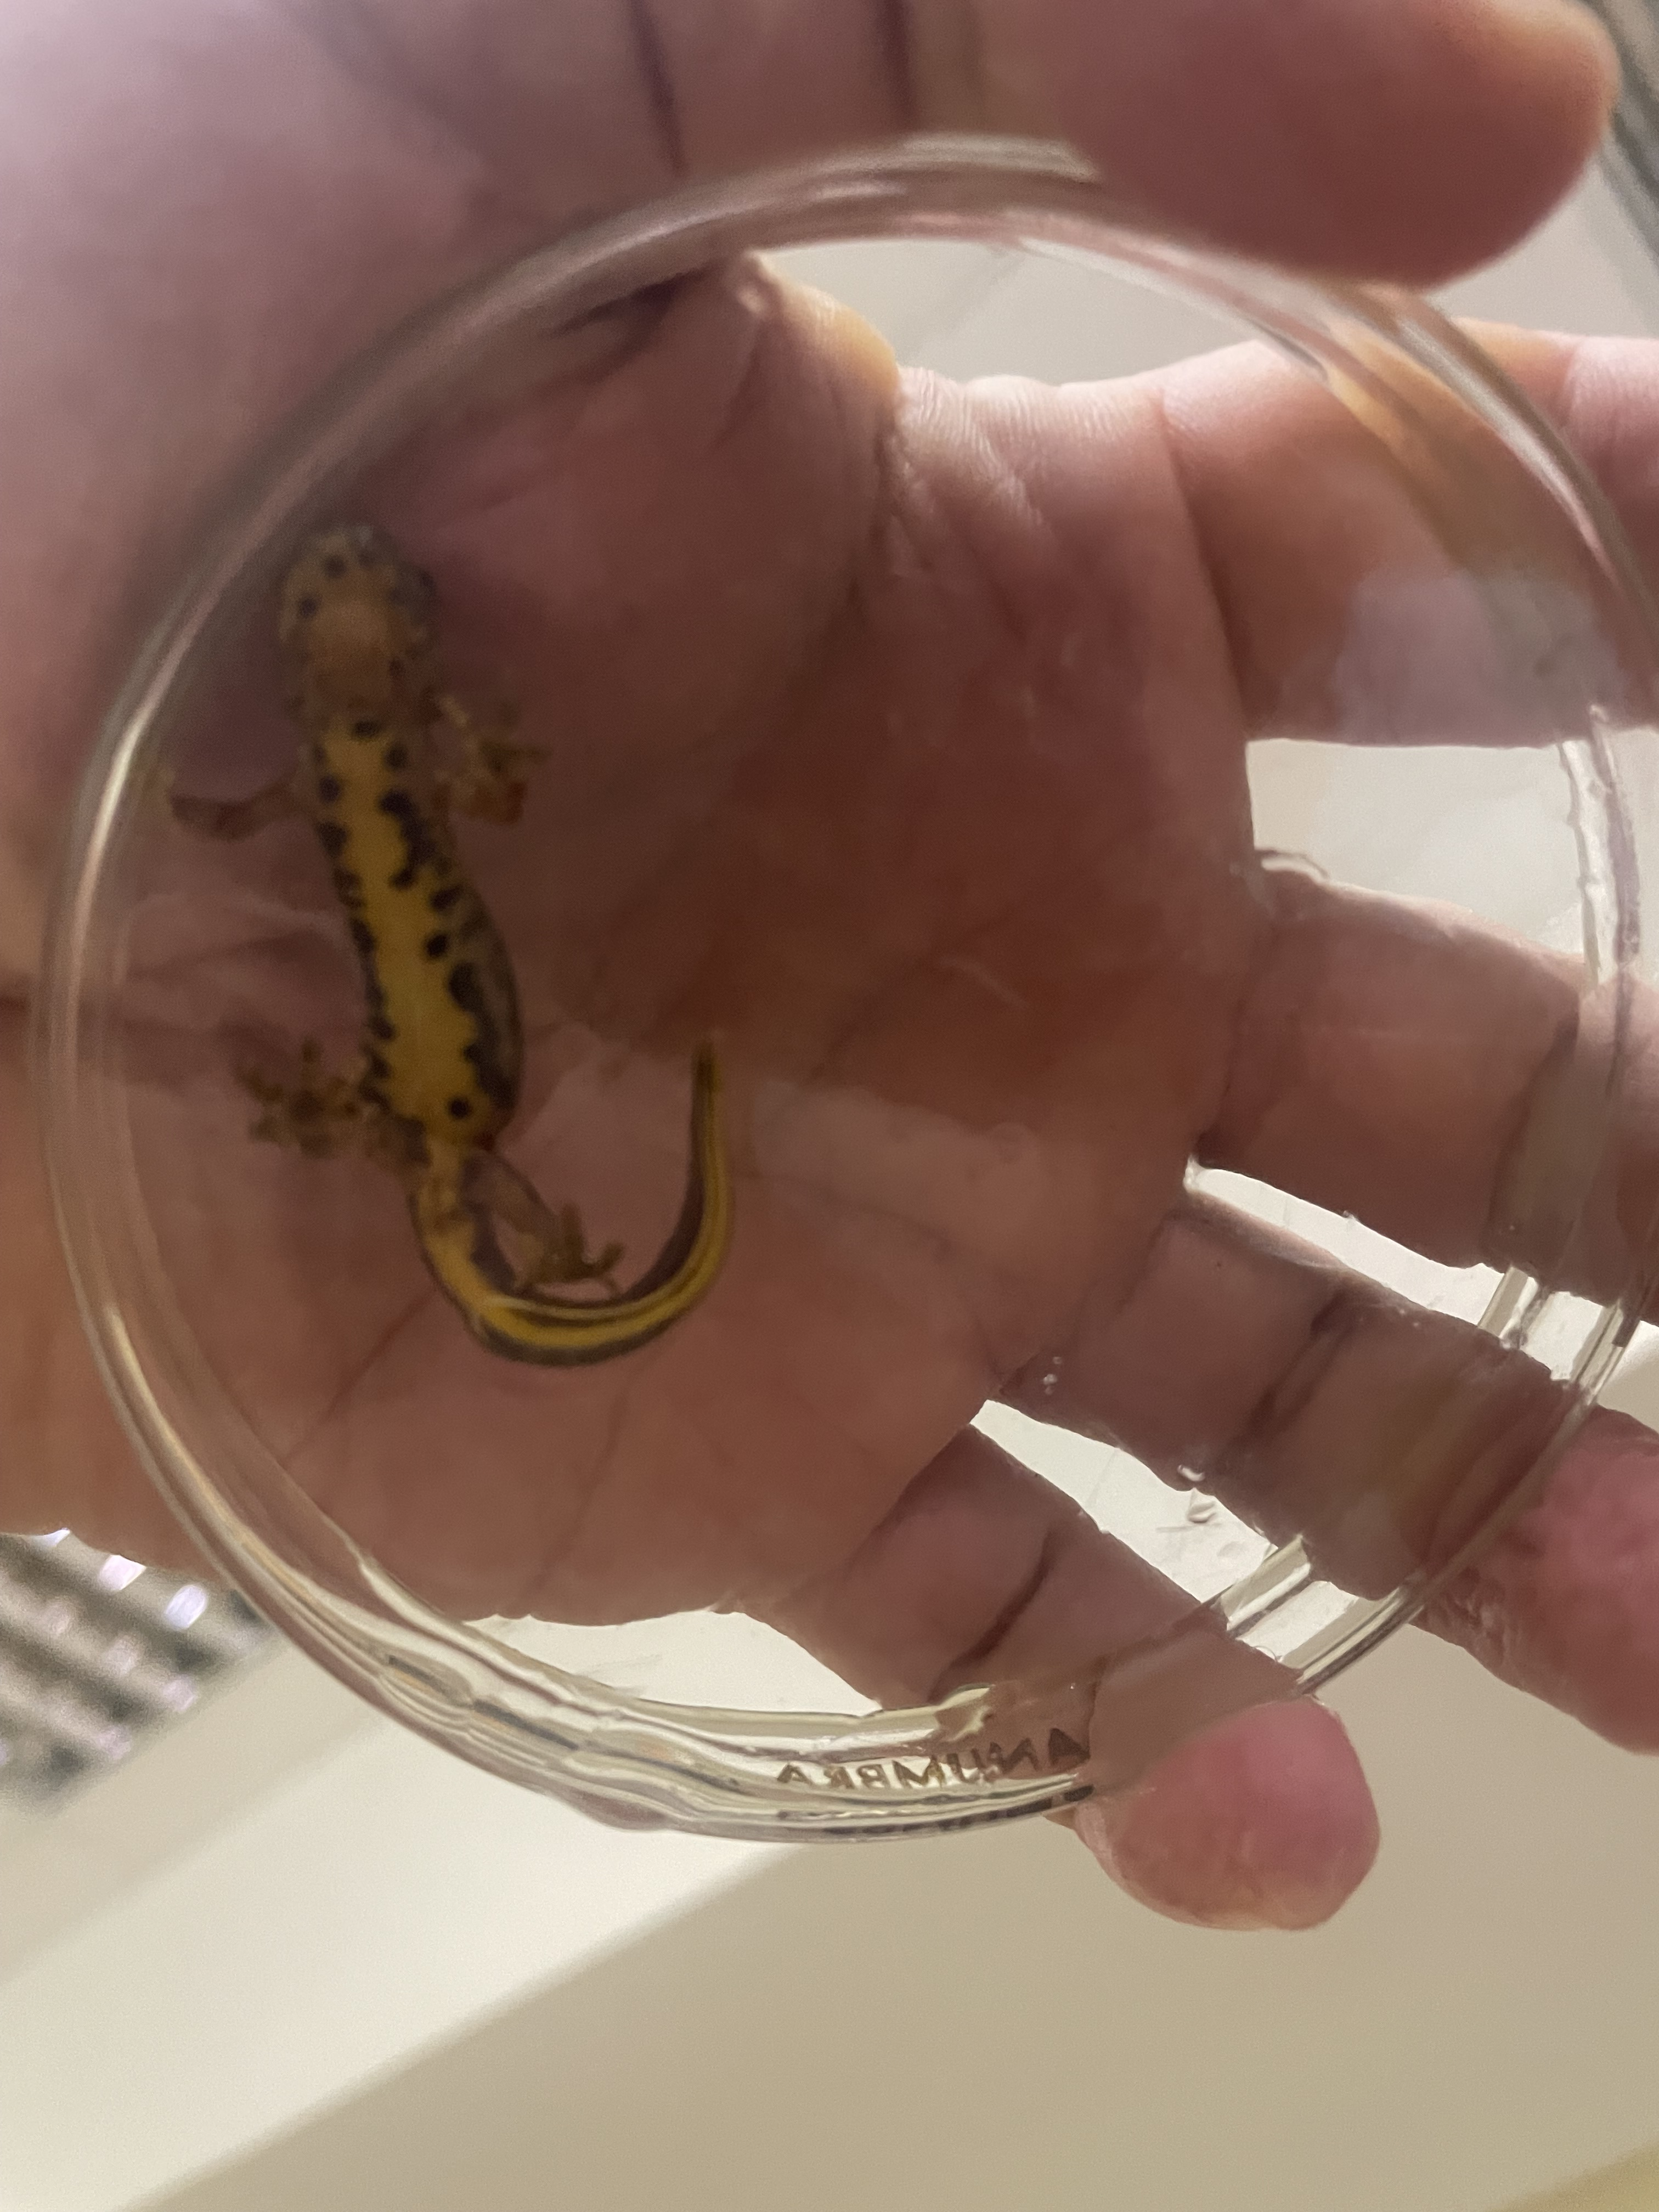Karelin_newt: (307, 799, 526, 1141)
